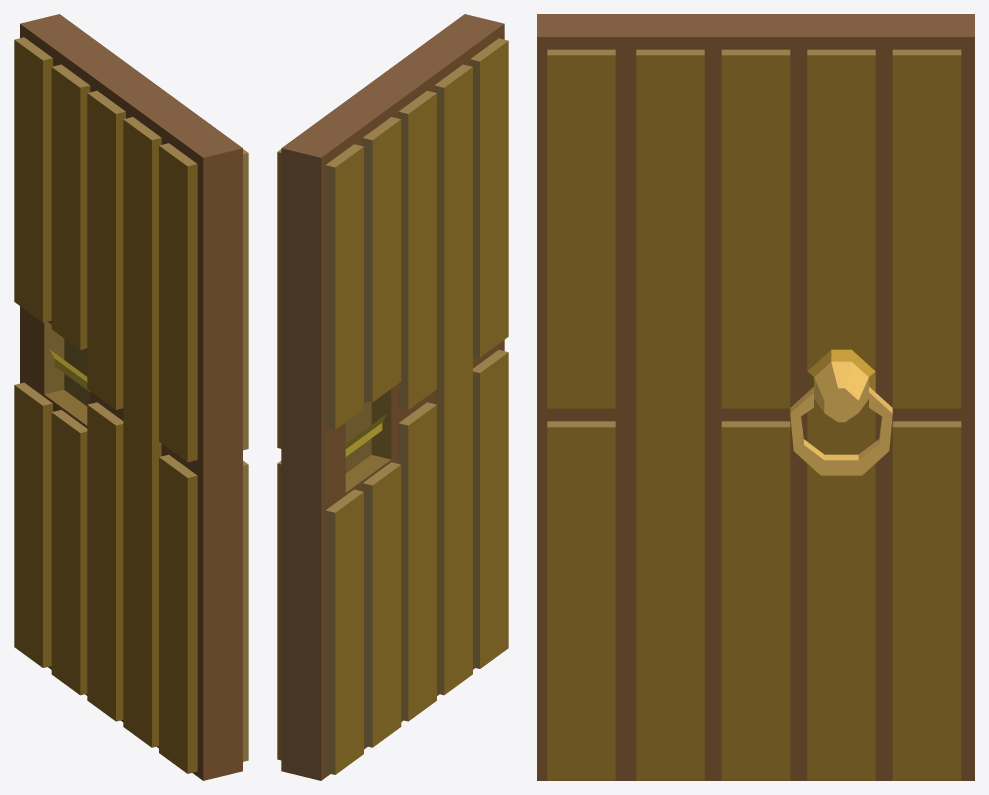
3 renders of one model, left to right at view 1: azimuth 30°, elevation 25°; view 2: azimuth 150°, elevation 25°; view 3: azimuth 270°, elevation 25°, orthographic. The views are drawn at different scales.
Size of the model in its own units: 40 by 240 by 128.
Materials: 1 (1 with a texture image).
